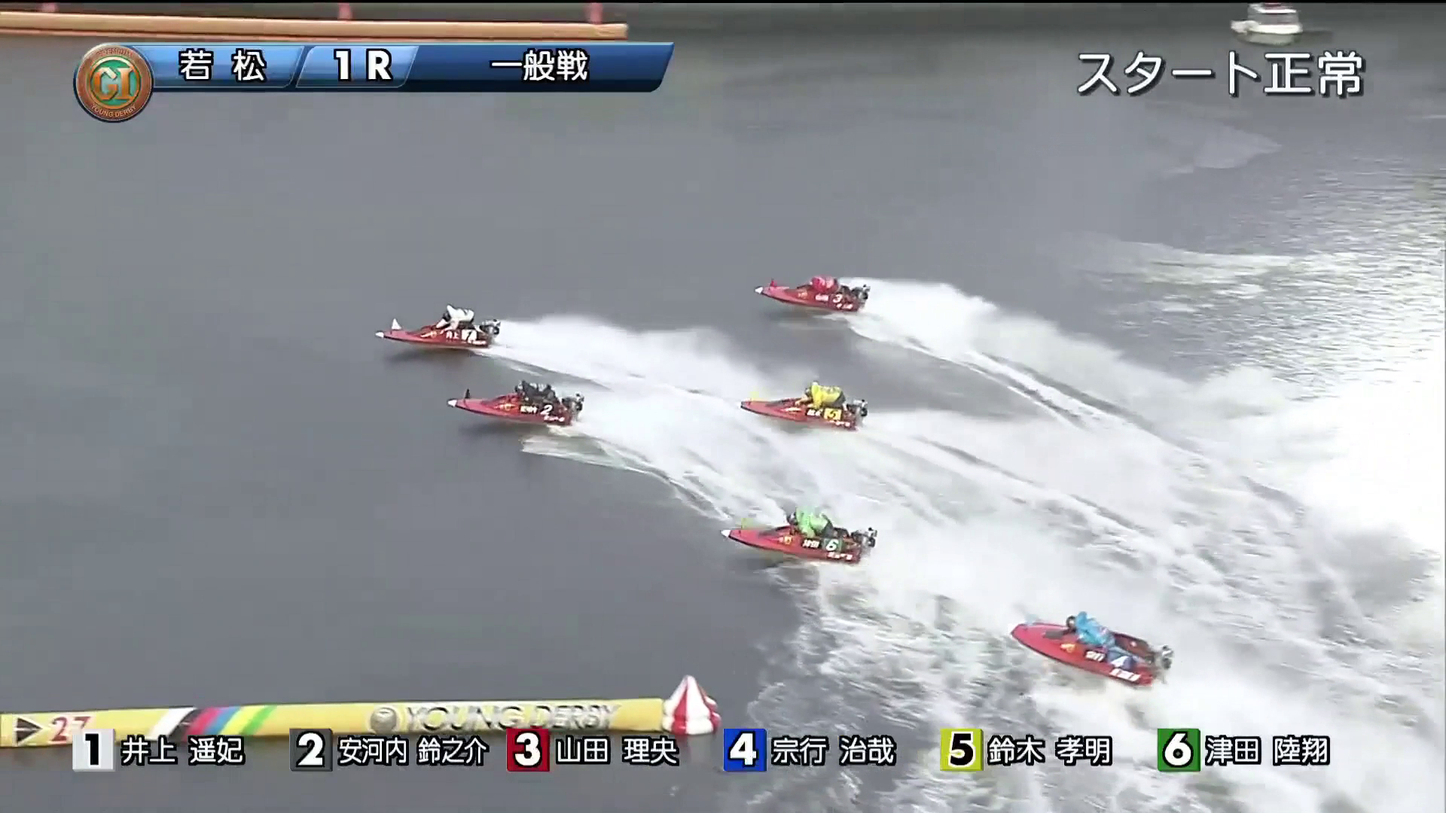１号艇: (382, 274, 453, 327)
２号艇: (425, 370, 554, 431)
３号艇: (772, 254, 870, 312)
４号艇: (743, 494, 876, 559)
５号艇: (1036, 620, 1160, 675)
６号艇: (741, 357, 841, 437)
